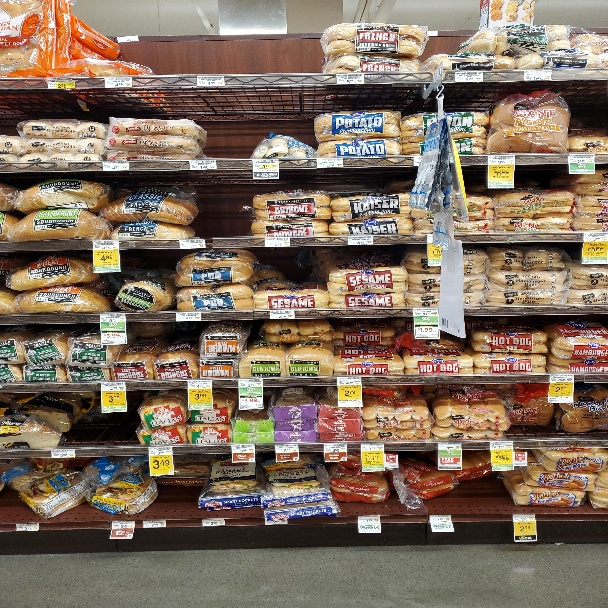All PRICE TAGS: (45, 77, 75, 89), (335, 73, 364, 85), (104, 76, 132, 88), (523, 70, 553, 81), (196, 76, 225, 87), (455, 70, 484, 81), (179, 239, 206, 249), (316, 158, 343, 168), (252, 158, 278, 168), (190, 159, 216, 169), (568, 154, 595, 163), (488, 155, 515, 164), (102, 161, 129, 170), (412, 308, 438, 317), (175, 312, 201, 321), (265, 237, 291, 246), (583, 232, 606, 242), (187, 380, 212, 389), (100, 382, 125, 391), (270, 310, 295, 319), (100, 313, 125, 322), (93, 240, 118, 249), (347, 236, 374, 244), (51, 449, 75, 458), (148, 446, 173, 454), (360, 443, 384, 451), (275, 444, 299, 452), (549, 374, 573, 382), (337, 377, 361, 385), (238, 379, 262, 387), (512, 514, 535, 522), (143, 520, 166, 528), (490, 441, 513, 449), (439, 442, 462, 450), (324, 443, 347, 451), (232, 444, 255, 452), (429, 514, 451, 522), (15, 524, 40, 531), (201, 519, 225, 526), (112, 521, 134, 528), (358, 516, 380, 522), (266, 520, 287, 525)
